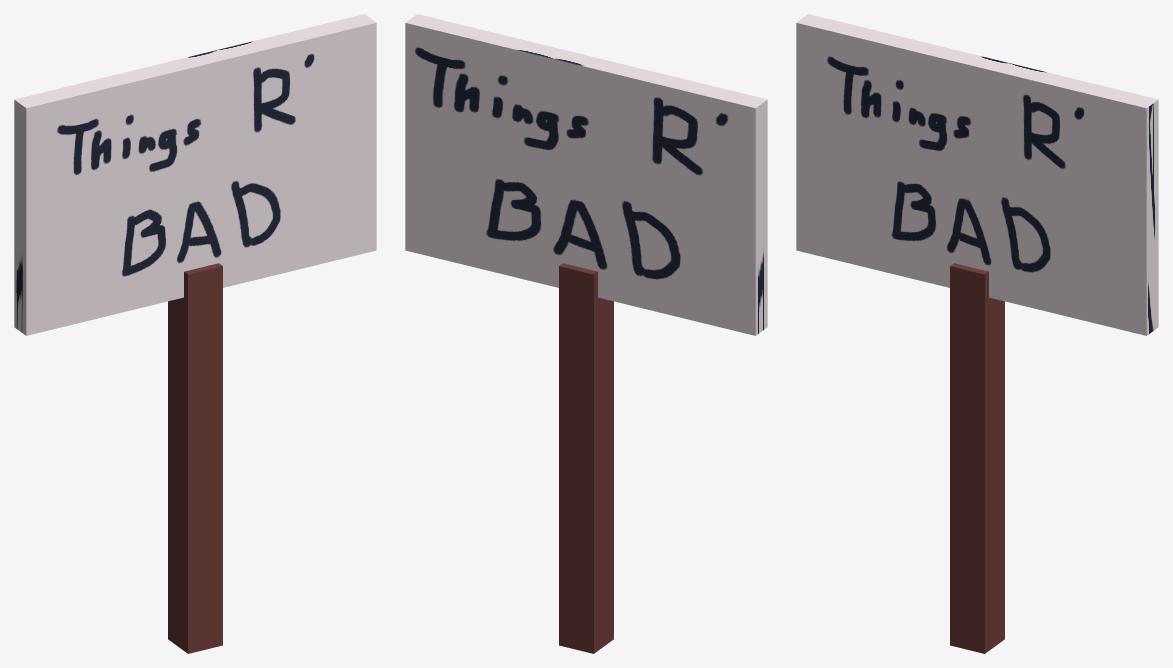
The model's file is Sign1.glb.
The picture shows the model from 3 angles, left to right: view 1: azimuth 30°, elevation 25°; view 2: azimuth 150°, elevation 25°; view 3: azimuth 330°, elevation 25°; orthographic projection.
Visible parts, largest first — view 1: Cube.001, Cube; view 2: Cube.001, Cube; view 3: Cube.001, Cube.
Boxes of the visible parts, x1,y1,x2,y2 form: Cube.001: (14, 14, 376, 335); Cube: (168, 263, 222, 653); Cube.001: (405, 14, 767, 335); Cube: (559, 263, 613, 653); Cube.001: (796, 14, 1158, 335); Cube: (950, 263, 1004, 653).
Bounding box in the file's own units: 2.85 × 4.51 × 0.2831.
Materials: 2 (2 with a texture image).
